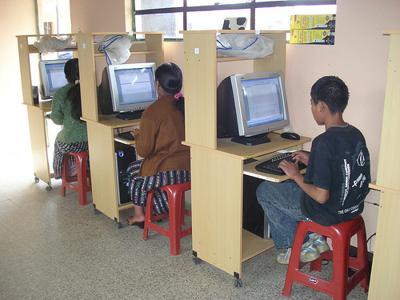person: (255, 76, 372, 265)
